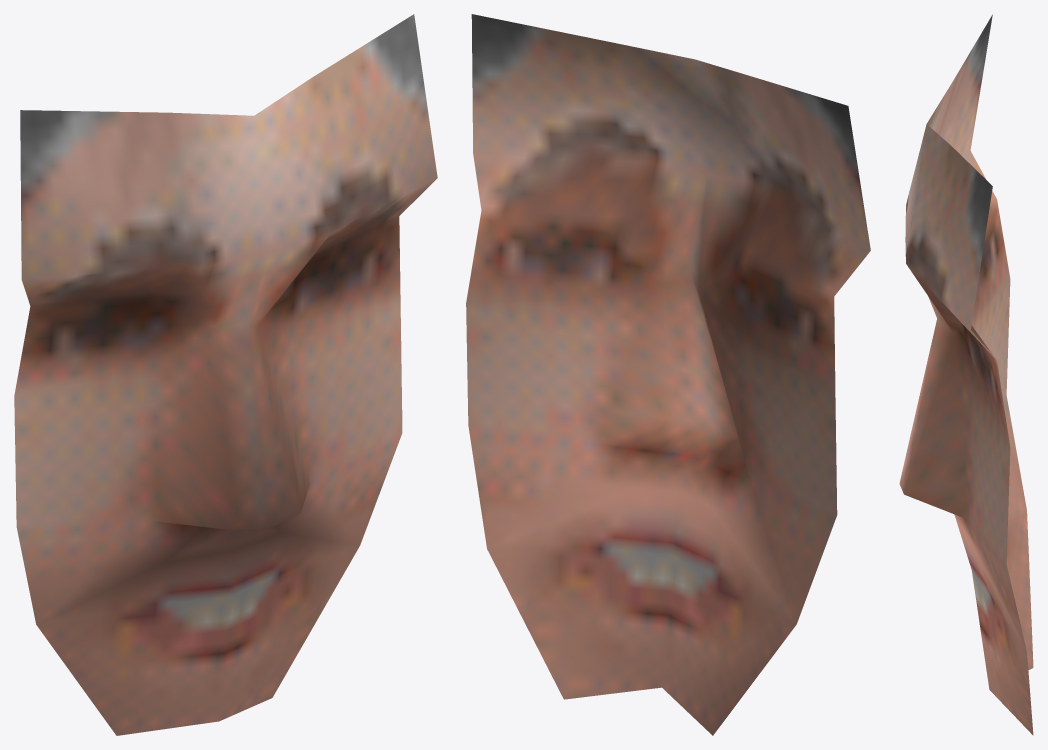
File: Velho_Face.fbx
3 renders of one model, left to right at view 1: azimuth 30°, elevation 25°; view 2: azimuth 150°, elevation 25°; view 3: azimuth 270°, elevation 25°, orthographic. The views are drawn at different scales.
Visible parts, largest first — view 1: Face; view 2: Face; view 3: Face.
Part boxes in pixels (bbox=[...]): Face: bbox=[14, 14, 437, 735]; Face: bbox=[466, 14, 870, 735]; Face: bbox=[899, 14, 1033, 735].
Bounding box in the file's own units: 10.71 × 16.52 × 3.33.
